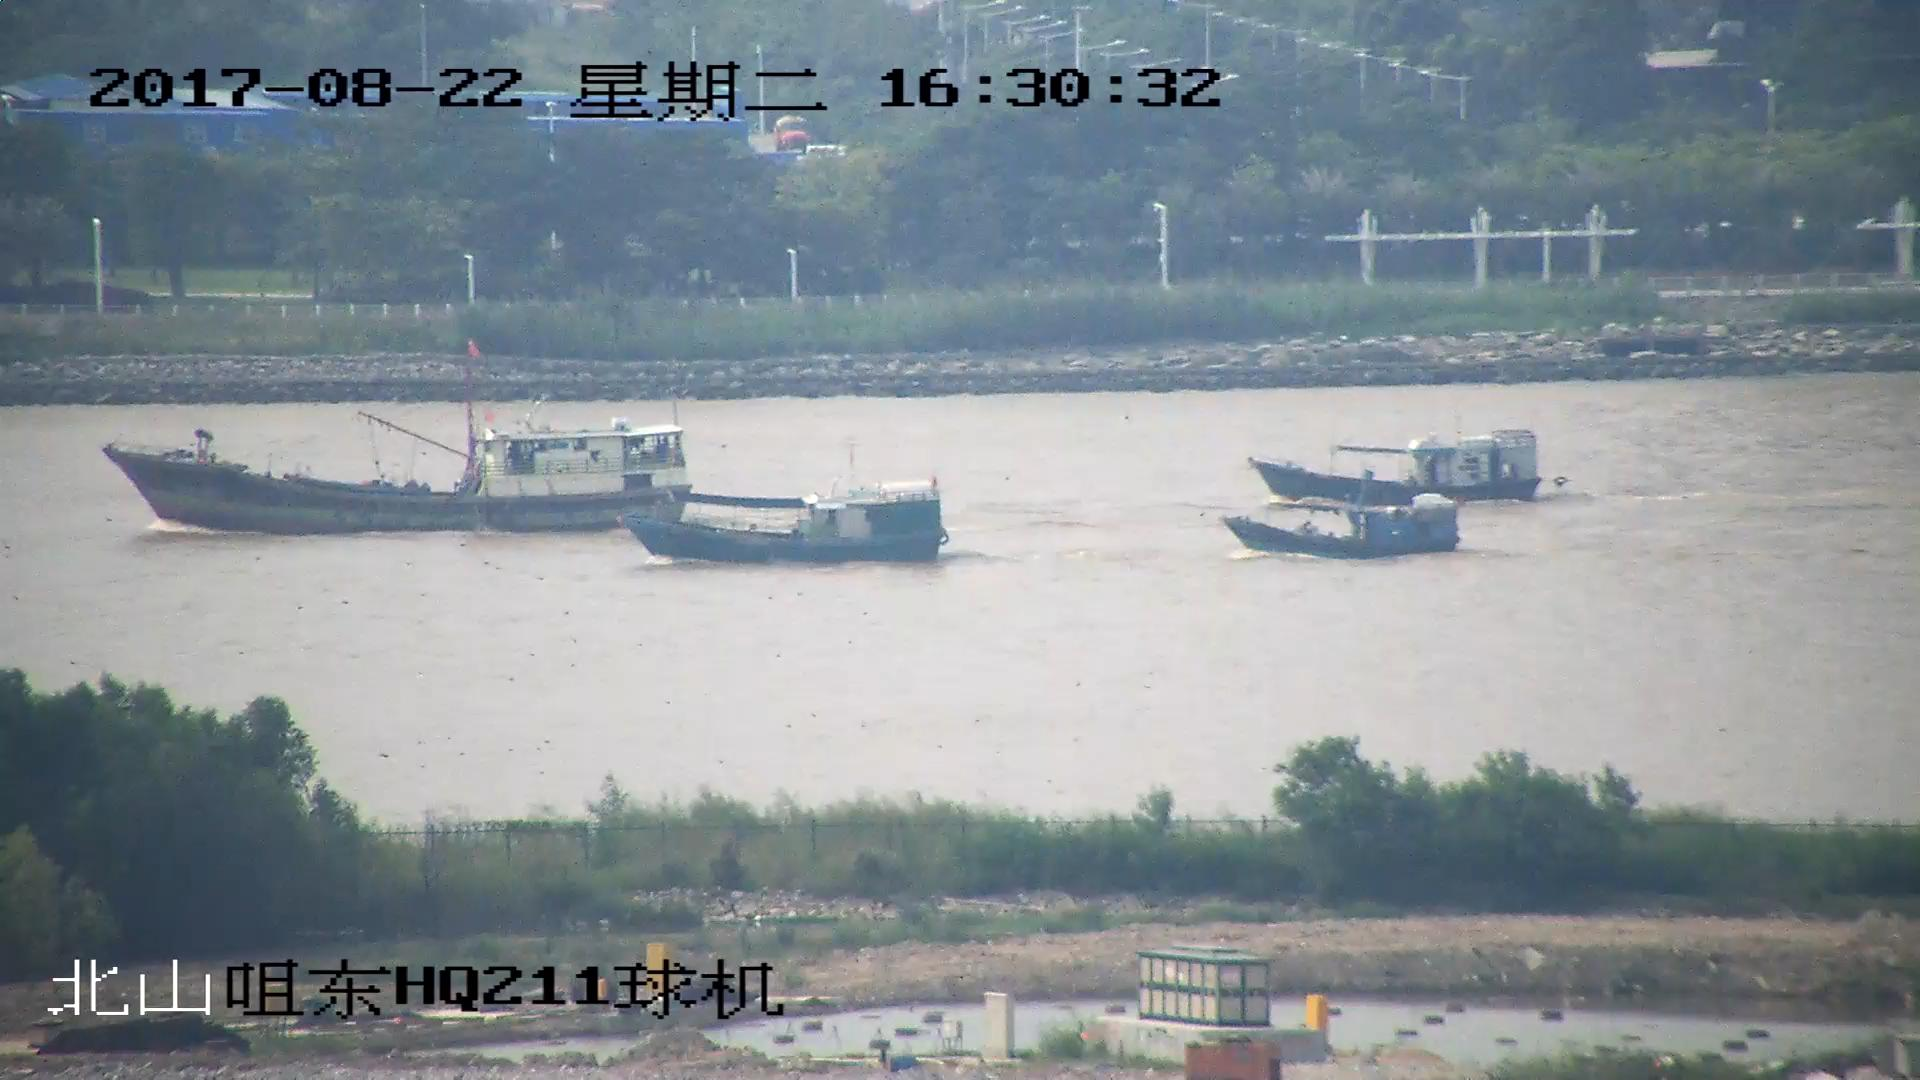fishing boat: (104, 337, 693, 535), (625, 469, 948, 563), (1250, 427, 1546, 507), (1227, 493, 1459, 561)
